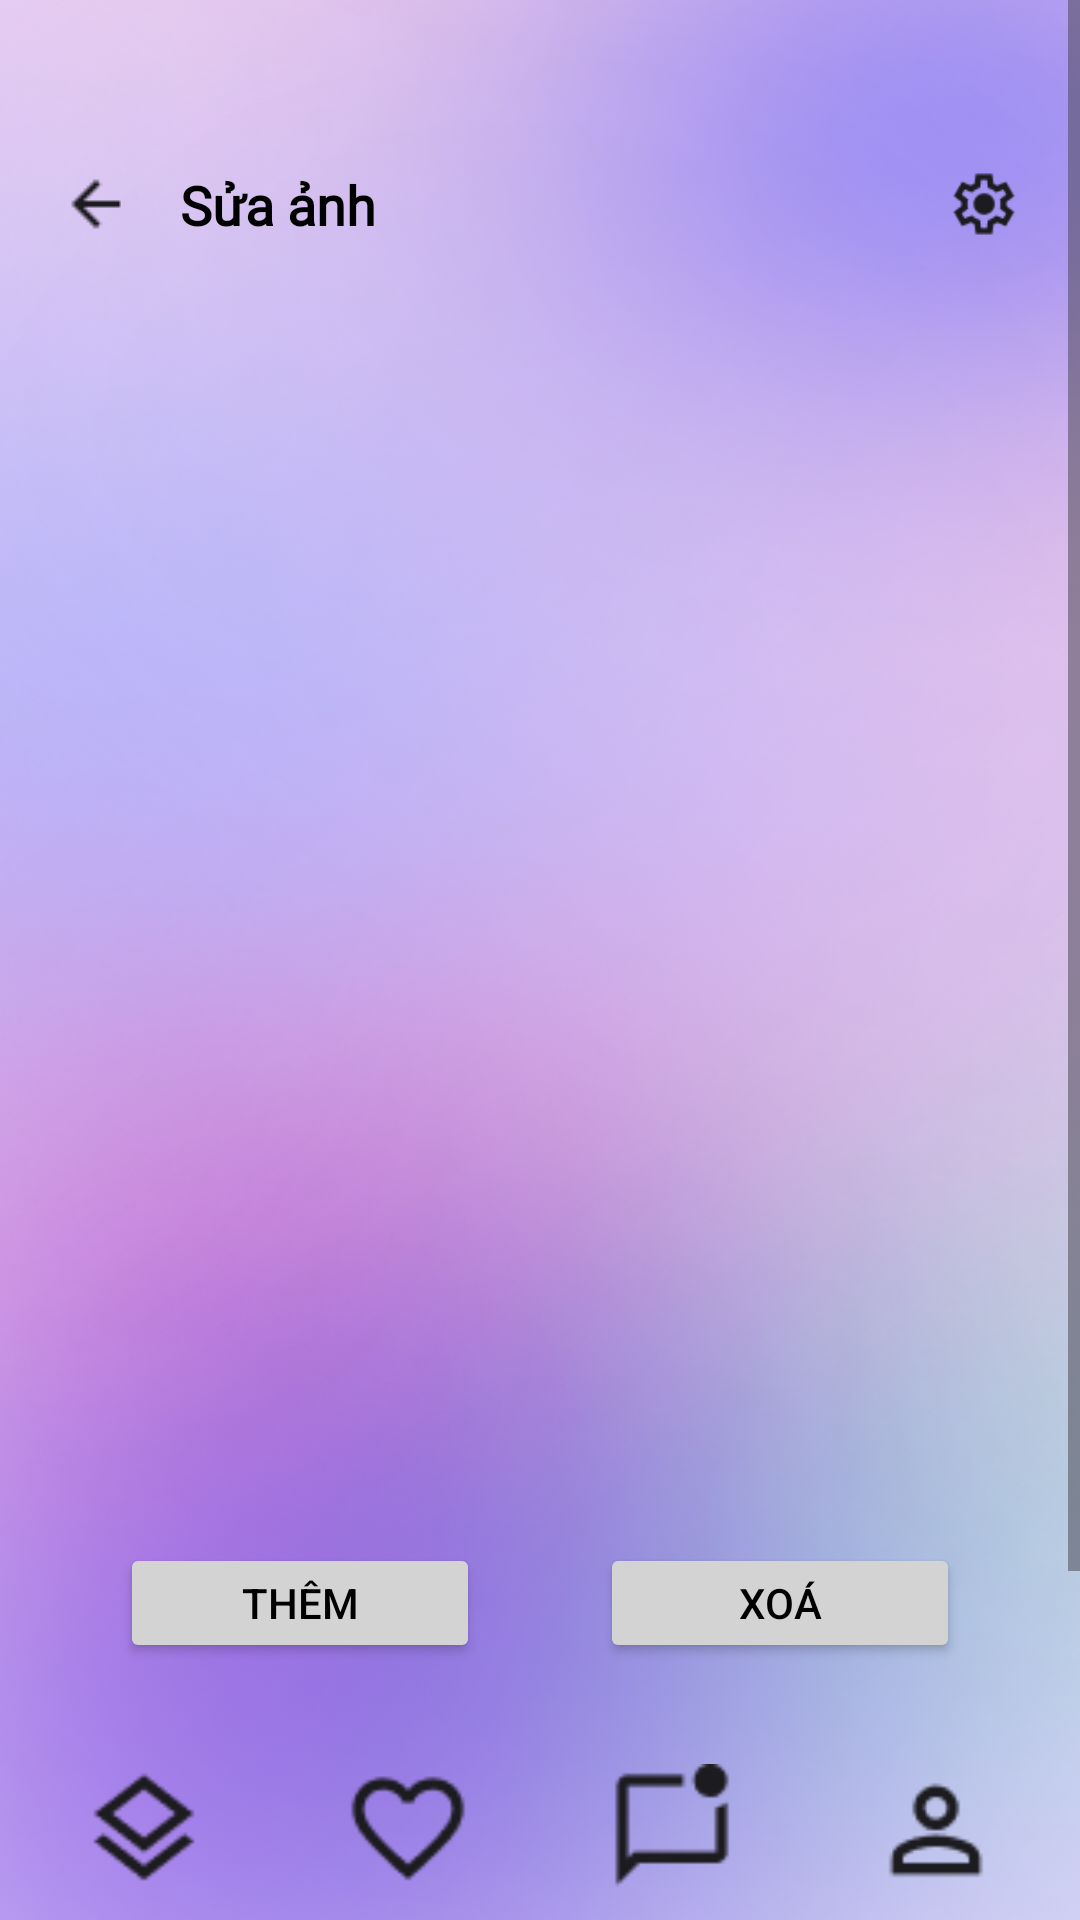

Icons on this 1080x1920 Android screen, each with its box as (x1, y1, x2, y2):
Back: (71, 179, 121, 229)
heart: (351, 1776, 465, 1880)
Settings: (953, 173, 1015, 235)
